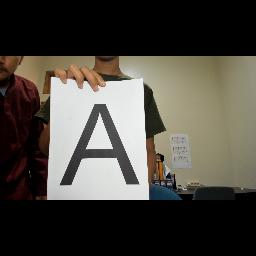a: (56, 98, 148, 194)
